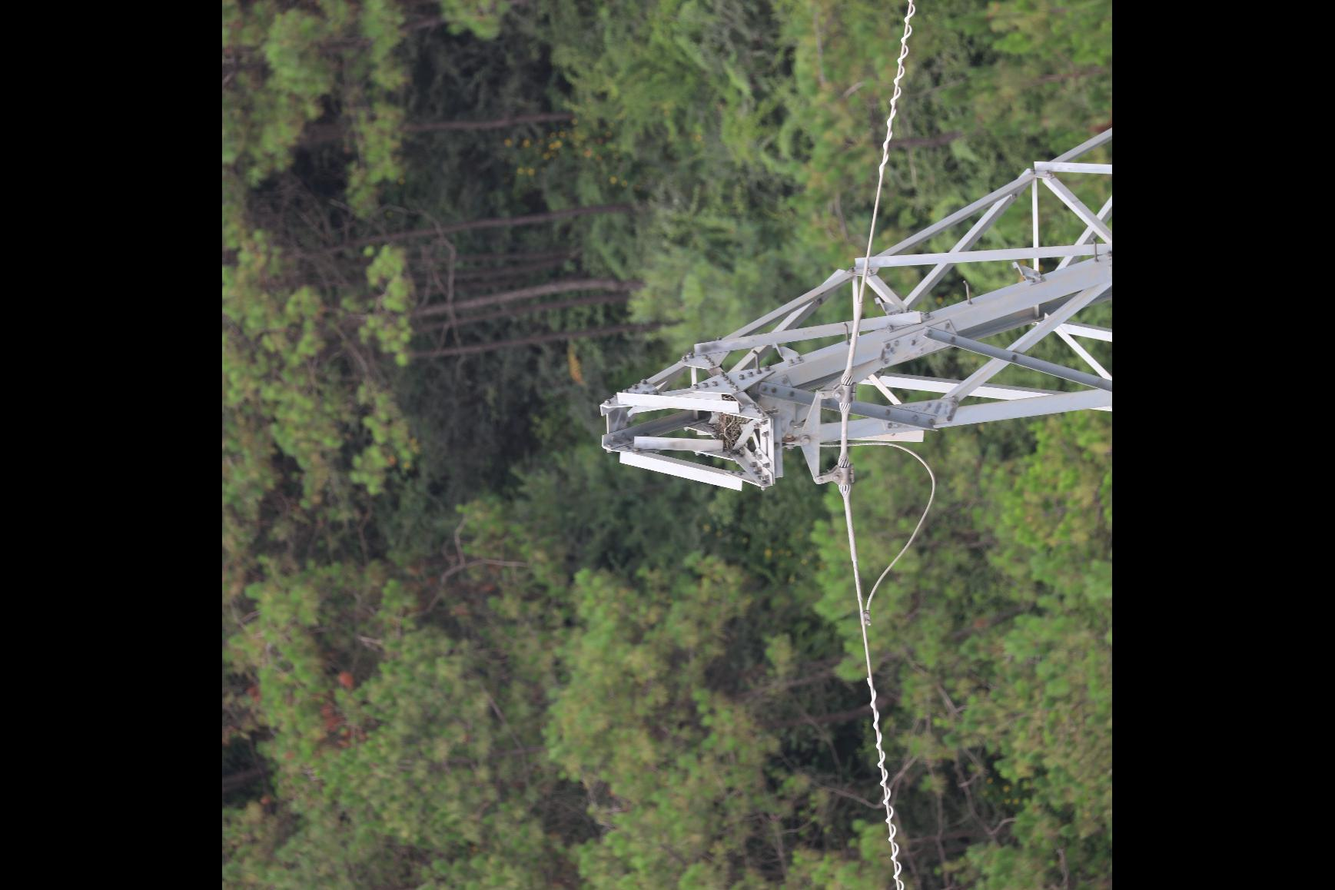nest: (706, 412, 746, 453)
